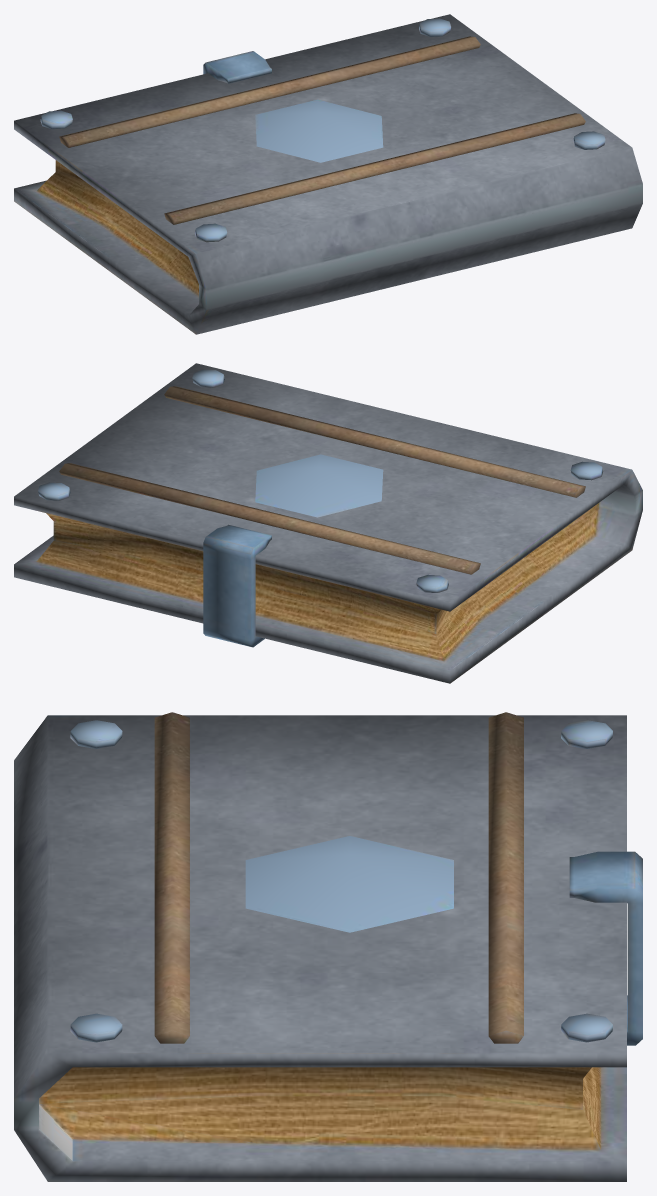
3 views of the same model, one above another, from view 1: azimuth 30°, elevation 25°; view 2: azimuth 150°, elevation 25°; view 3: azimuth 270°, elevation 25° (orthographic). The views are drawn at different scales.
Size of the model in its own units: 0.2101 by 0.05 by 0.1651.
Materials: 1 (1 with a texture image).
